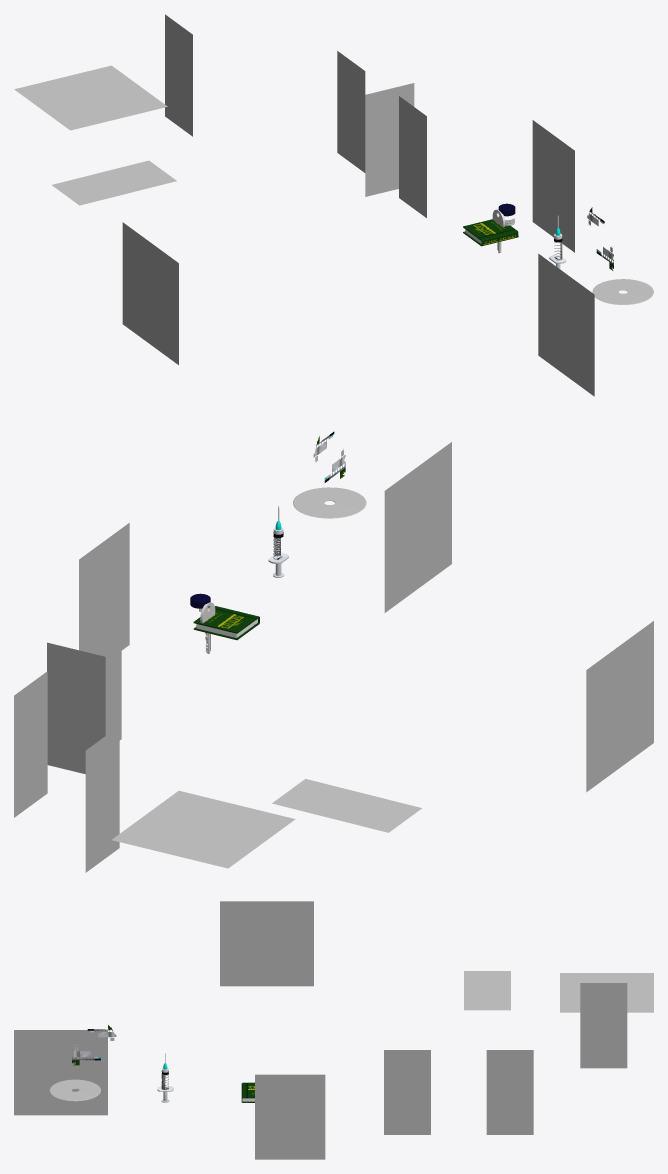
The model's file is FINALKEY.fbx.
3 views of the same model, one above another, from view 1: azimuth 30°, elevation 25°; view 2: azimuth 150°, elevation 25°; view 3: azimuth 270°, elevation 25° (orthographic). The views are drawn at different scales.
Visible parts, largest first — view 1: Key (2), extend left side, shopping, CD, images, Needle.001, Needle, Photos, Bookscale, Bookscale.001, Cylinder, Cube; view 2: shopping, Key (2), extend left side, CD, Needle.001, images, Bookscale, Needle, Bookscale.001, Photos, Cylinder, Cube; view 3: shopping, Key (2), extend left side, images, Bookscale, Needle, Photos, CD, Bookscale.001, Cylinder.
Boxes of the visible parts, box(x1,y1,x2,y2) form: Key (2), extend left side: box(538, 253, 594, 396); shopping: box(122, 222, 178, 364); CD: box(14, 65, 167, 130); images: box(532, 120, 574, 252); Needle.001: box(365, 83, 414, 196); Needle: box(337, 51, 365, 172); Photos: box(399, 96, 426, 217); Bookscale: box(165, 14, 192, 136); Bookscale.001: box(52, 160, 176, 205); Cylinder: box(592, 279, 653, 304); Cube: box(463, 219, 518, 246); shopping: box(586, 621, 653, 792); Key (2), extend left side: box(384, 442, 451, 612); CD: box(112, 790, 295, 868); Needle.001: box(47, 642, 105, 774); images: box(79, 523, 129, 652); Bookscale: box(85, 726, 119, 872); Needle: box(14, 671, 47, 817); Bookscale.001: box(272, 779, 421, 832); Photos: box(87, 617, 121, 740); Cylinder: box(293, 487, 366, 518); Cube: box(193, 606, 259, 640); shopping: box(220, 901, 313, 986); Key (2), extend left side: box(14, 1030, 107, 1115); images: box(255, 1074, 325, 1159); Bookscale: box(580, 983, 627, 1068); Needle: box(486, 1050, 533, 1134); Photos: box(384, 1050, 430, 1134); CD: box(560, 973, 653, 1012); Bookscale.001: box(464, 971, 510, 1010); Cylinder: box(49, 1079, 100, 1101).
Size of the model in its own units: 427 by 132 by 681.
